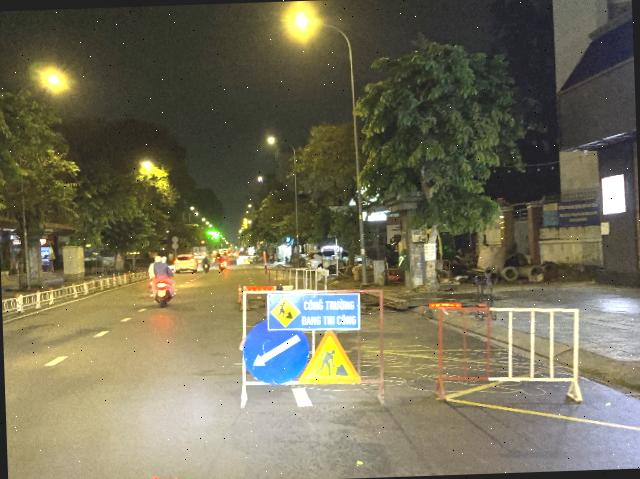cong-truong-dang-thi-cong: (298, 328, 362, 386)
huong-phai-di-vong-chuong-ngai-vat: (242, 318, 312, 386)
